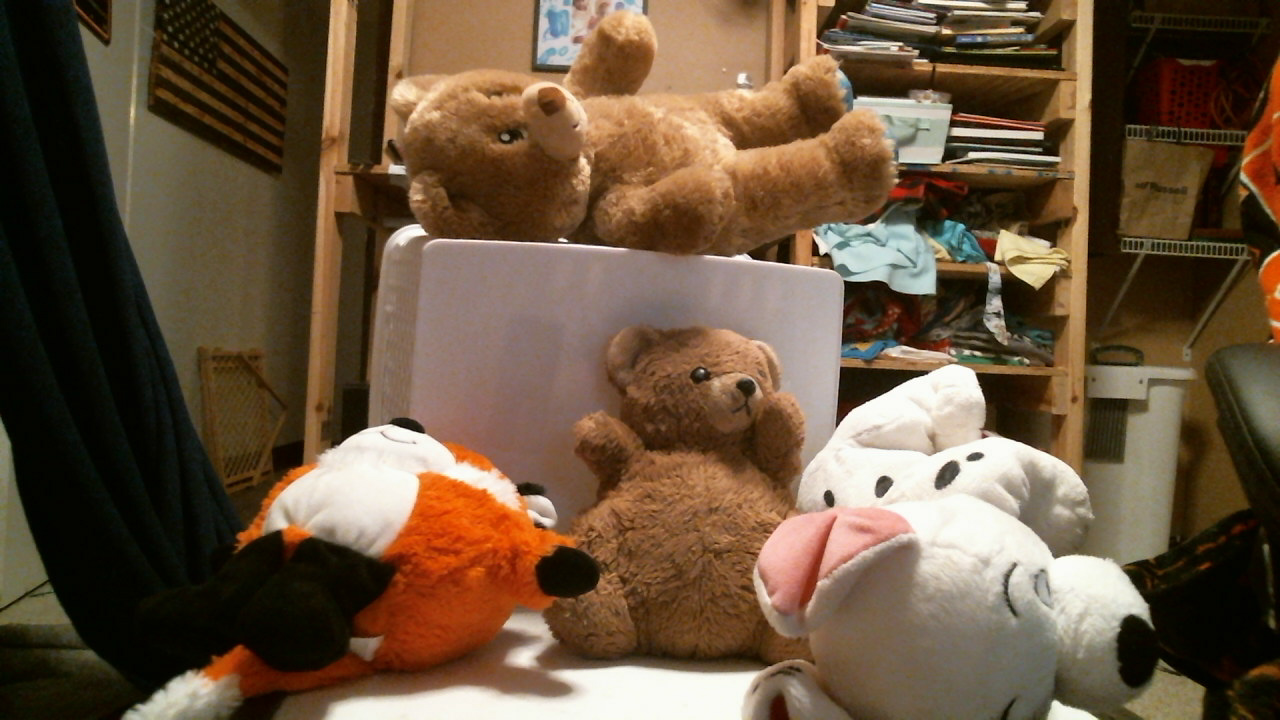Little_Mister_Bear: (680, 361, 776, 432)
